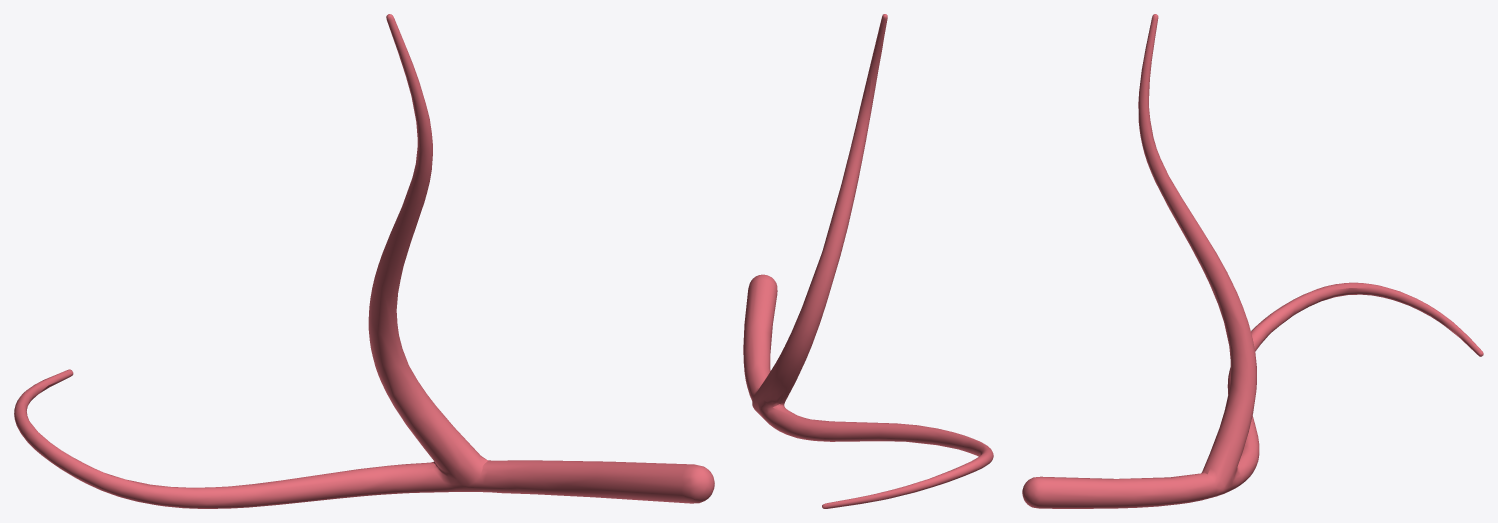
The model's file is fma20801_fj2195.glb.
3 renders of one model, left to right at view 1: azimuth 30°, elevation 25°; view 2: azimuth 150°, elevation 25°; view 3: azimuth 270°, elevation 25°, orthographic. The views are drawn at different scales.
Visible parts, largest first — view 1: FMA20801_FJ2195; view 2: FMA20801_FJ2195; view 3: FMA20801_FJ2195.
Boxes of the visible parts, bbox=[...] form: FMA20801_FJ2195: bbox=[14, 14, 714, 508]; FMA20801_FJ2195: bbox=[743, 14, 993, 508]; FMA20801_FJ2195: bbox=[1022, 14, 1483, 508].
Bounding box in the file's own units: 0.0717 × 0.0741 × 0.0713.
